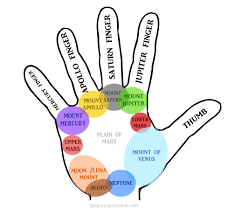palm: (63, 93, 160, 192)
